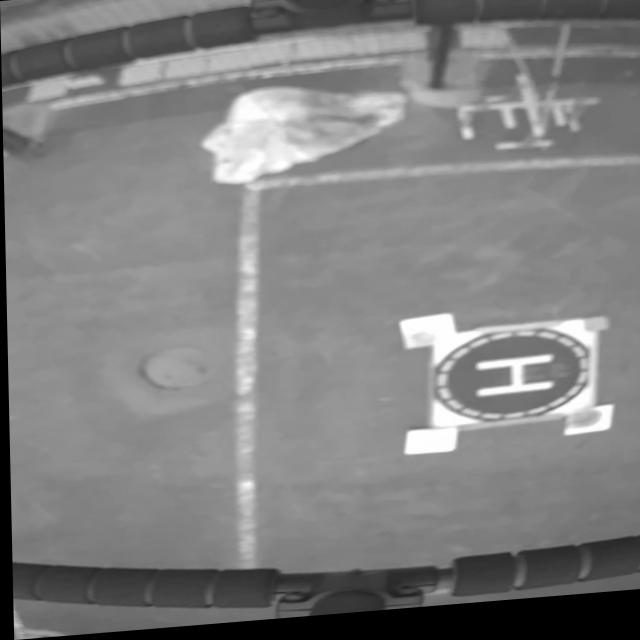Helipad: (474, 362, 552, 404)
